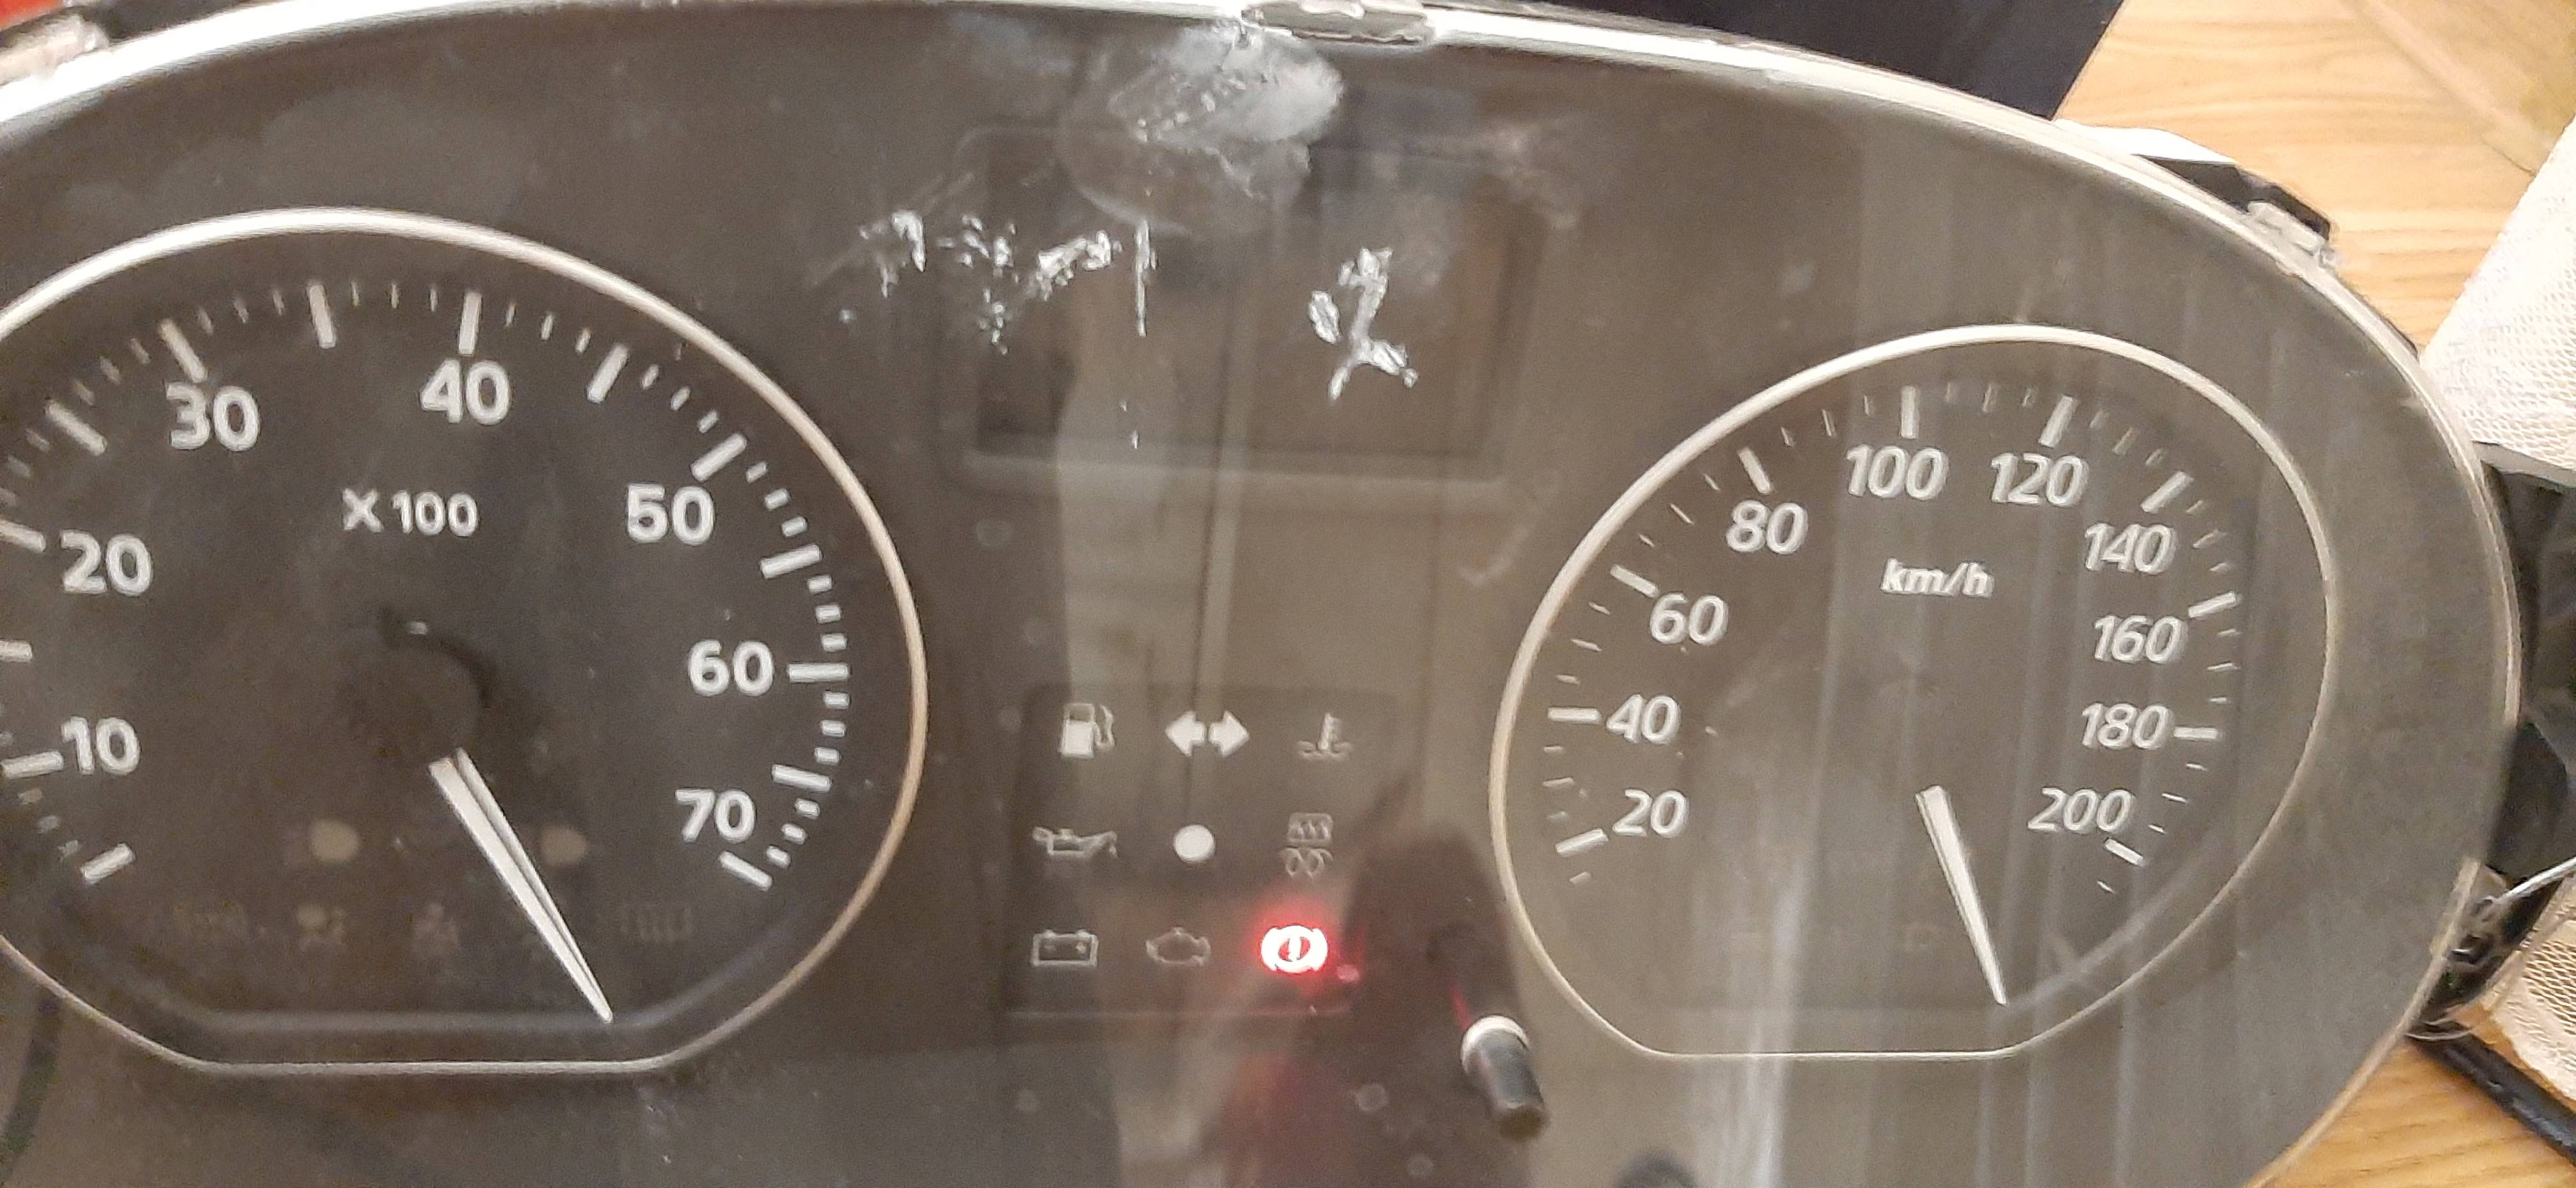brake8: (1260, 922, 1331, 976)
